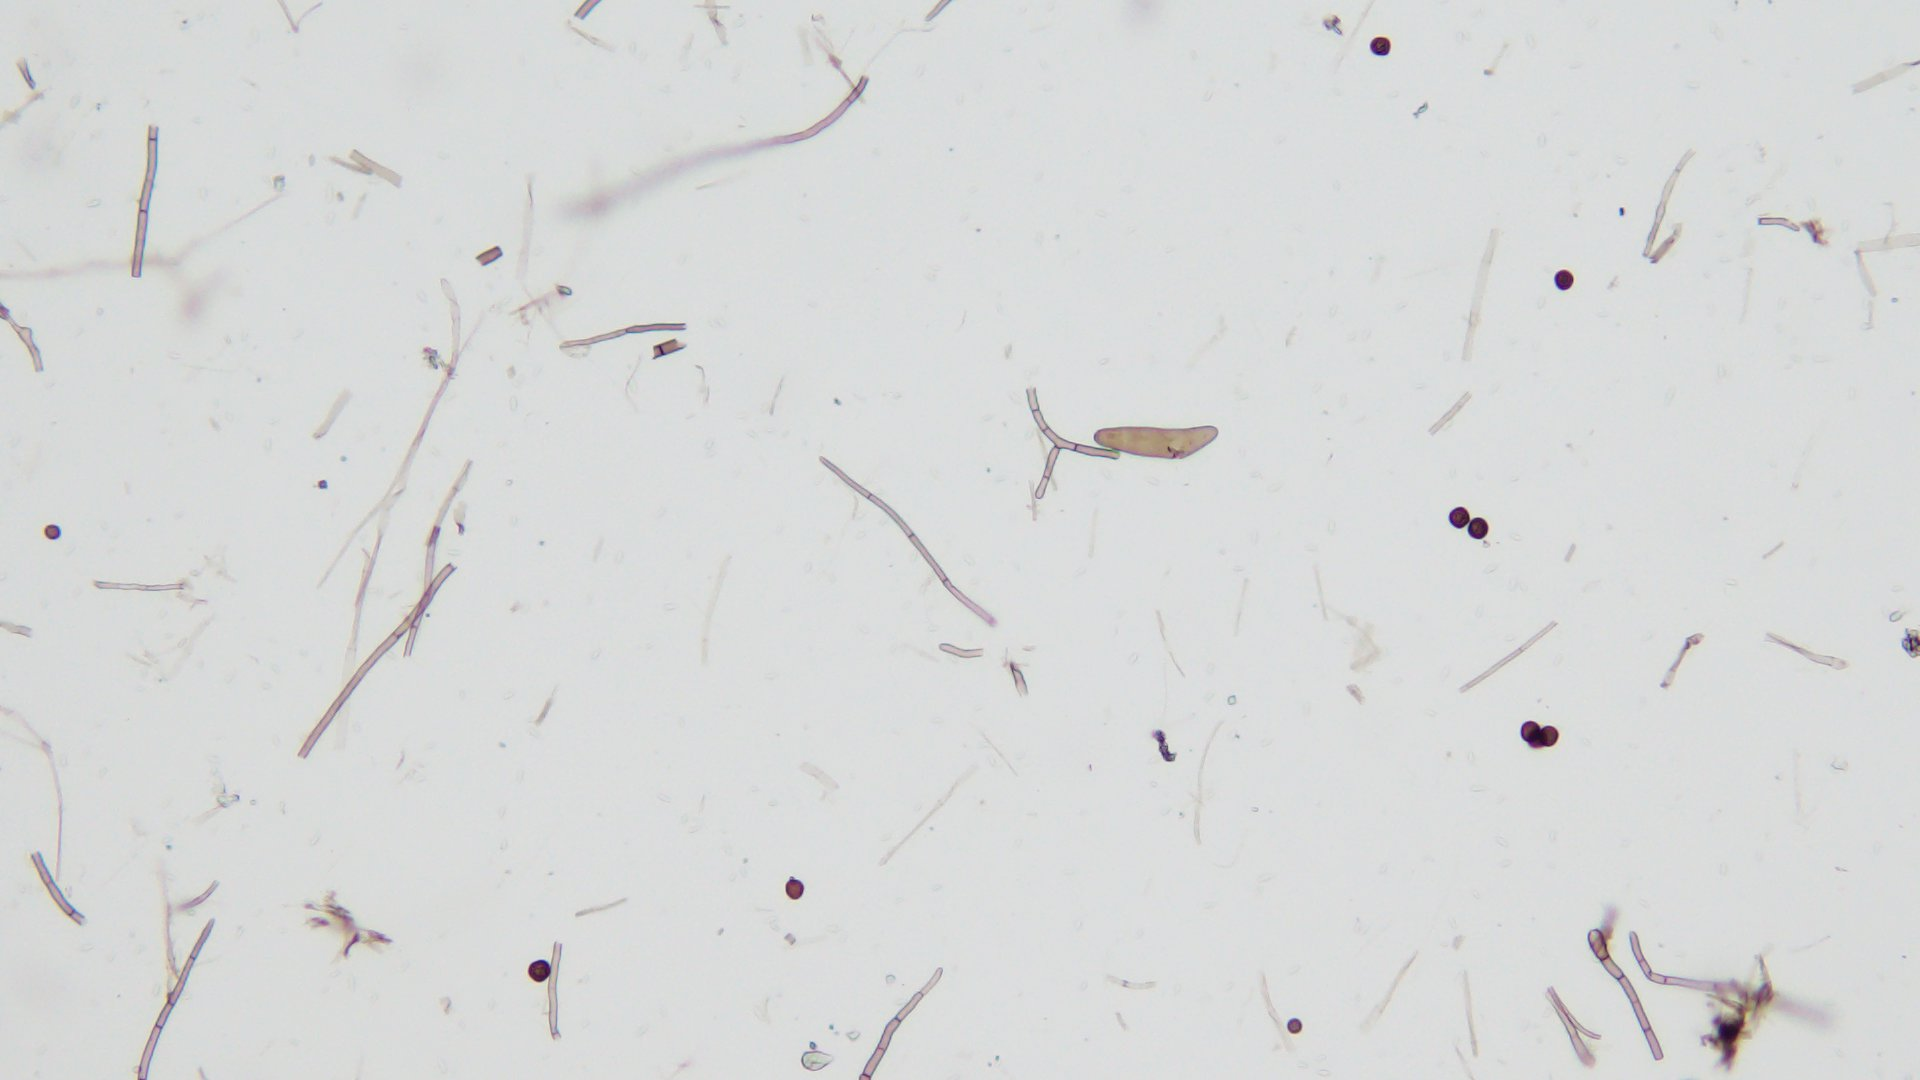dbb_spore: (1097, 425, 1222, 462)
shs_spore: (1447, 506, 1472, 530), (1518, 720, 1539, 742), (1553, 270, 1575, 291), (526, 961, 550, 980), (786, 878, 804, 902), (1367, 38, 1393, 55), (1468, 518, 1487, 539), (1542, 727, 1560, 746)
